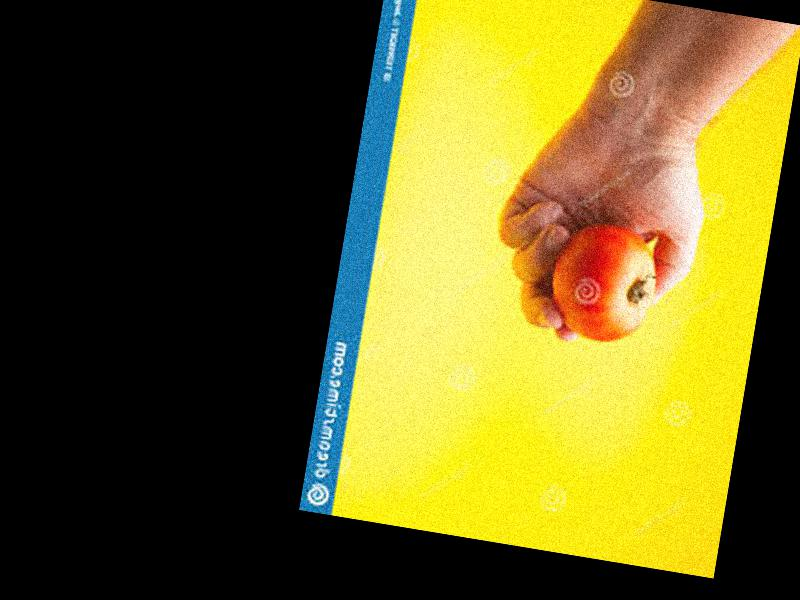Tomato: (544, 217, 663, 347)
